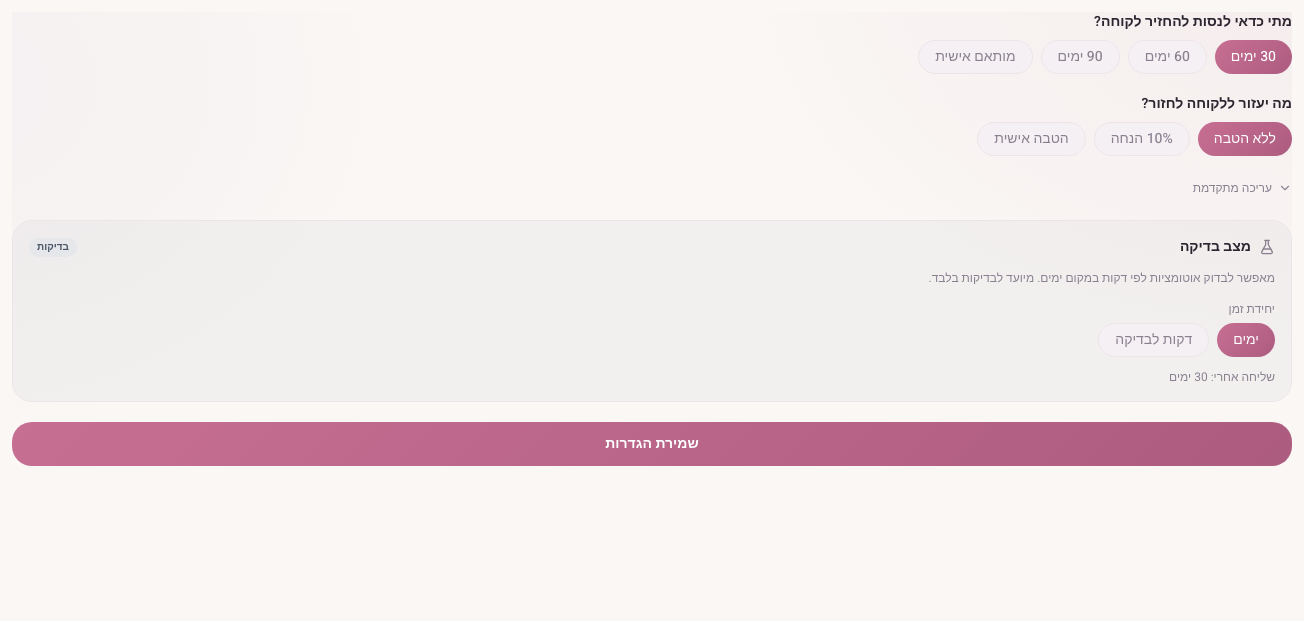
Test: WinBackSettingsForm — test mode (minutes) › shows the test-mode block for admins and toggles to minutes mode
Expected: the text "מצב בדיקה" is shown, left=1180, top=237, right=1251, bottom=257
Expected: the text "שליחה אחרי: 30 ימים" is shown, left=1169, top=368, right=1275, bottom=386
Step 1. Click the button "דקות לבדיקה" → (1154,340), box left=1098, top=322, right=1209, bottom=356
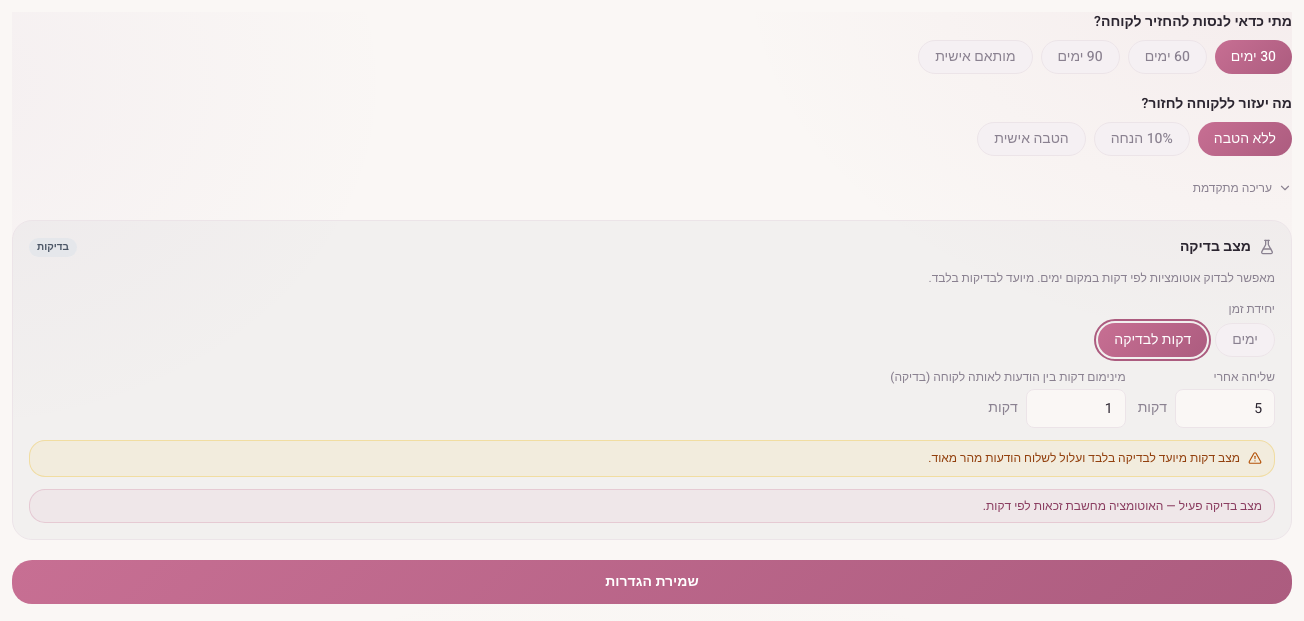
Expected: the text "מצב בדיקה פעיל — האוטומציה מחשבת זכאות לפי דקות." is shown, left=983, top=497, right=1262, bottom=515
